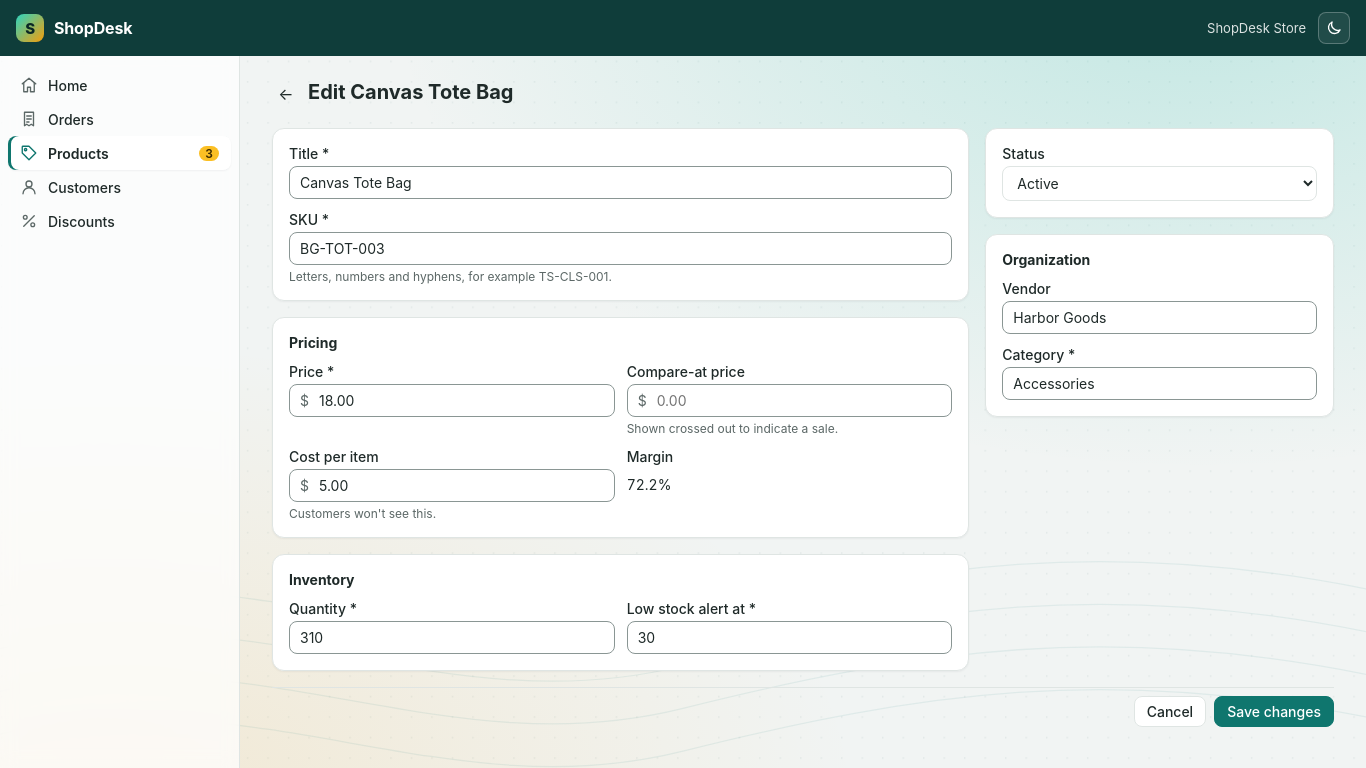
Test: editing a product › saves changes and returns to the product page
Replace the text in the field labelled "Title *" with "Market Tote Bag": x=621, y=182 [290, 167, 951, 198]
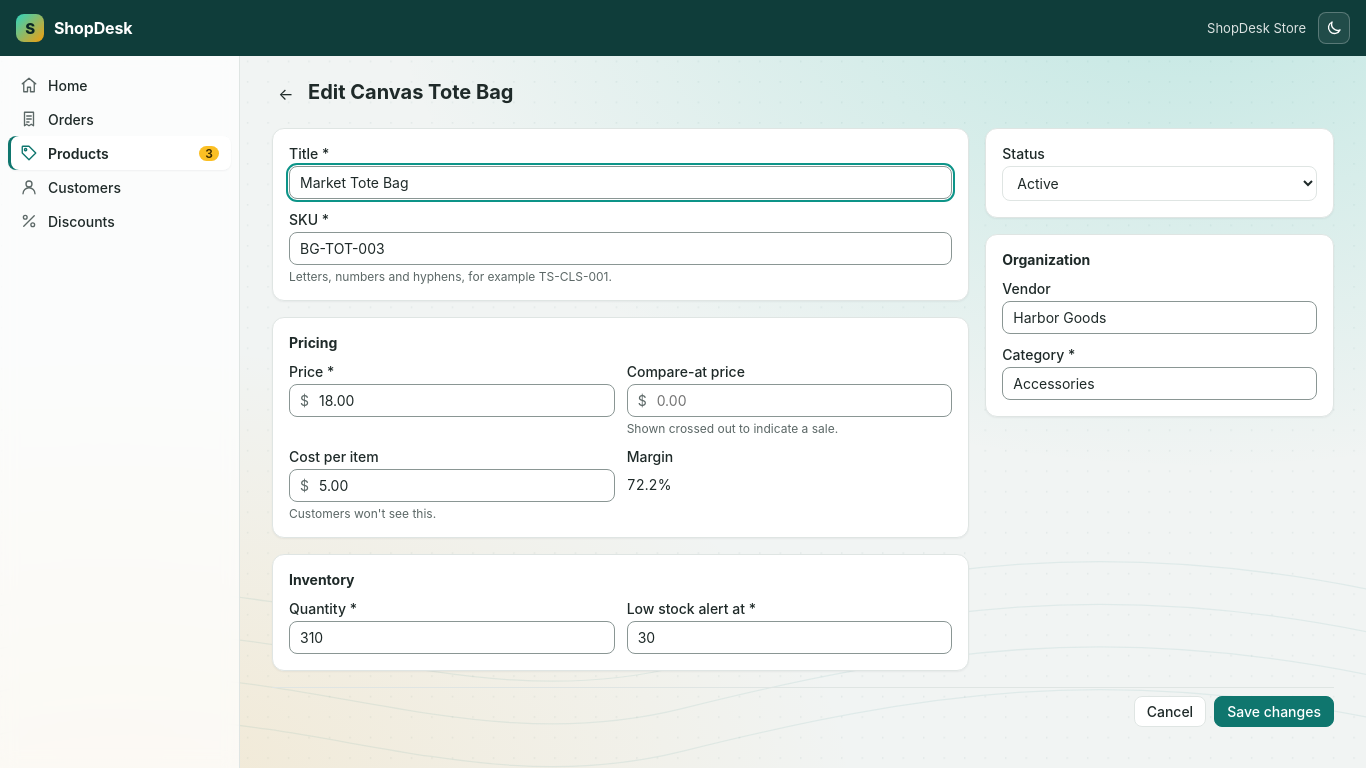
Click the button "Save changes": x=1274, y=712 [1214, 696, 1334, 727]
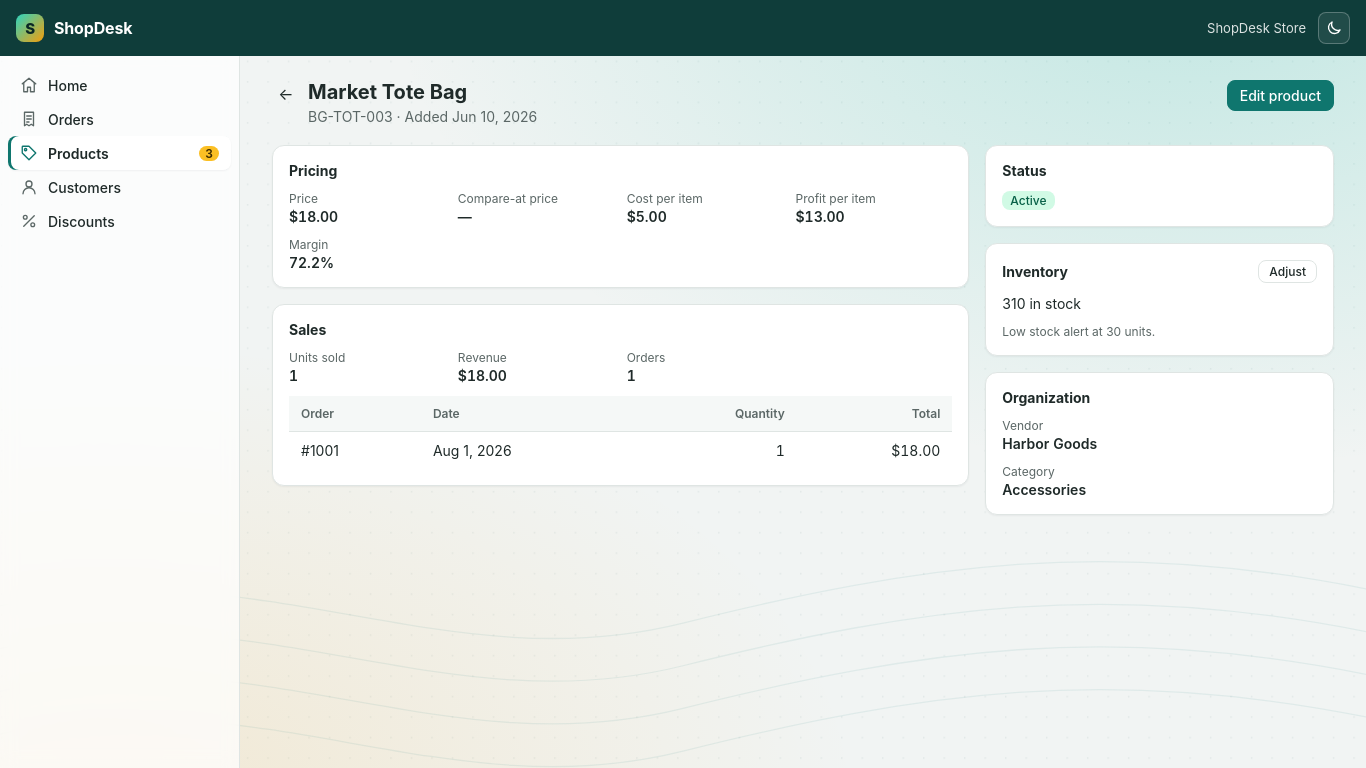
Expected: the heading "Market Tote Bag" is shown, [308, 80, 467, 104]
Click the link named "Back to products": x=286, y=94 [278, 84, 294, 104]
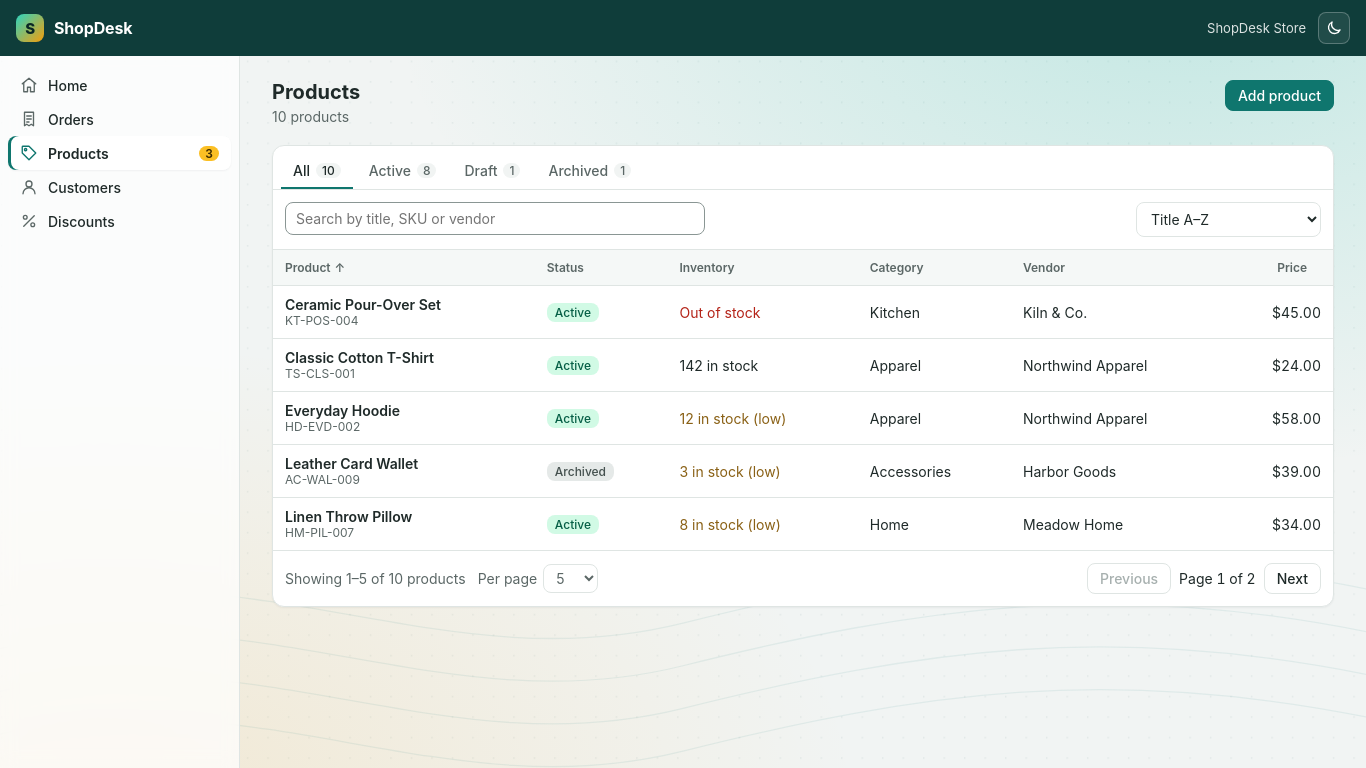
Expected: the text "10 products" is shown, [272, 108, 360, 125]
// The renamed product sorts onto a later page, so search for it.
In the search field named "Search products": x=495, y=218 [285, 202, 705, 235], type "tote"
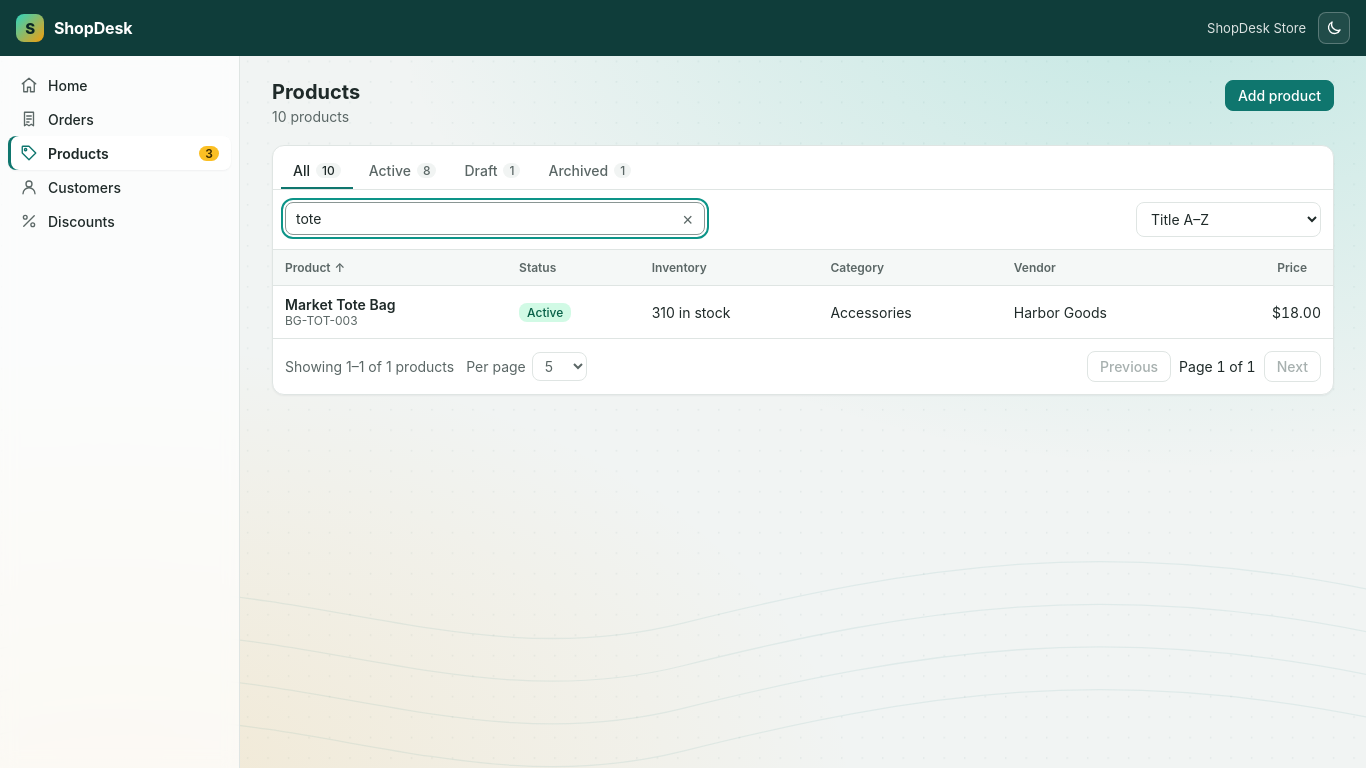
Expected: the heading "Canvas Tote Bag" is not shown
Expected: the link "Market Tote Bag" is shown, [285, 296, 396, 313]
